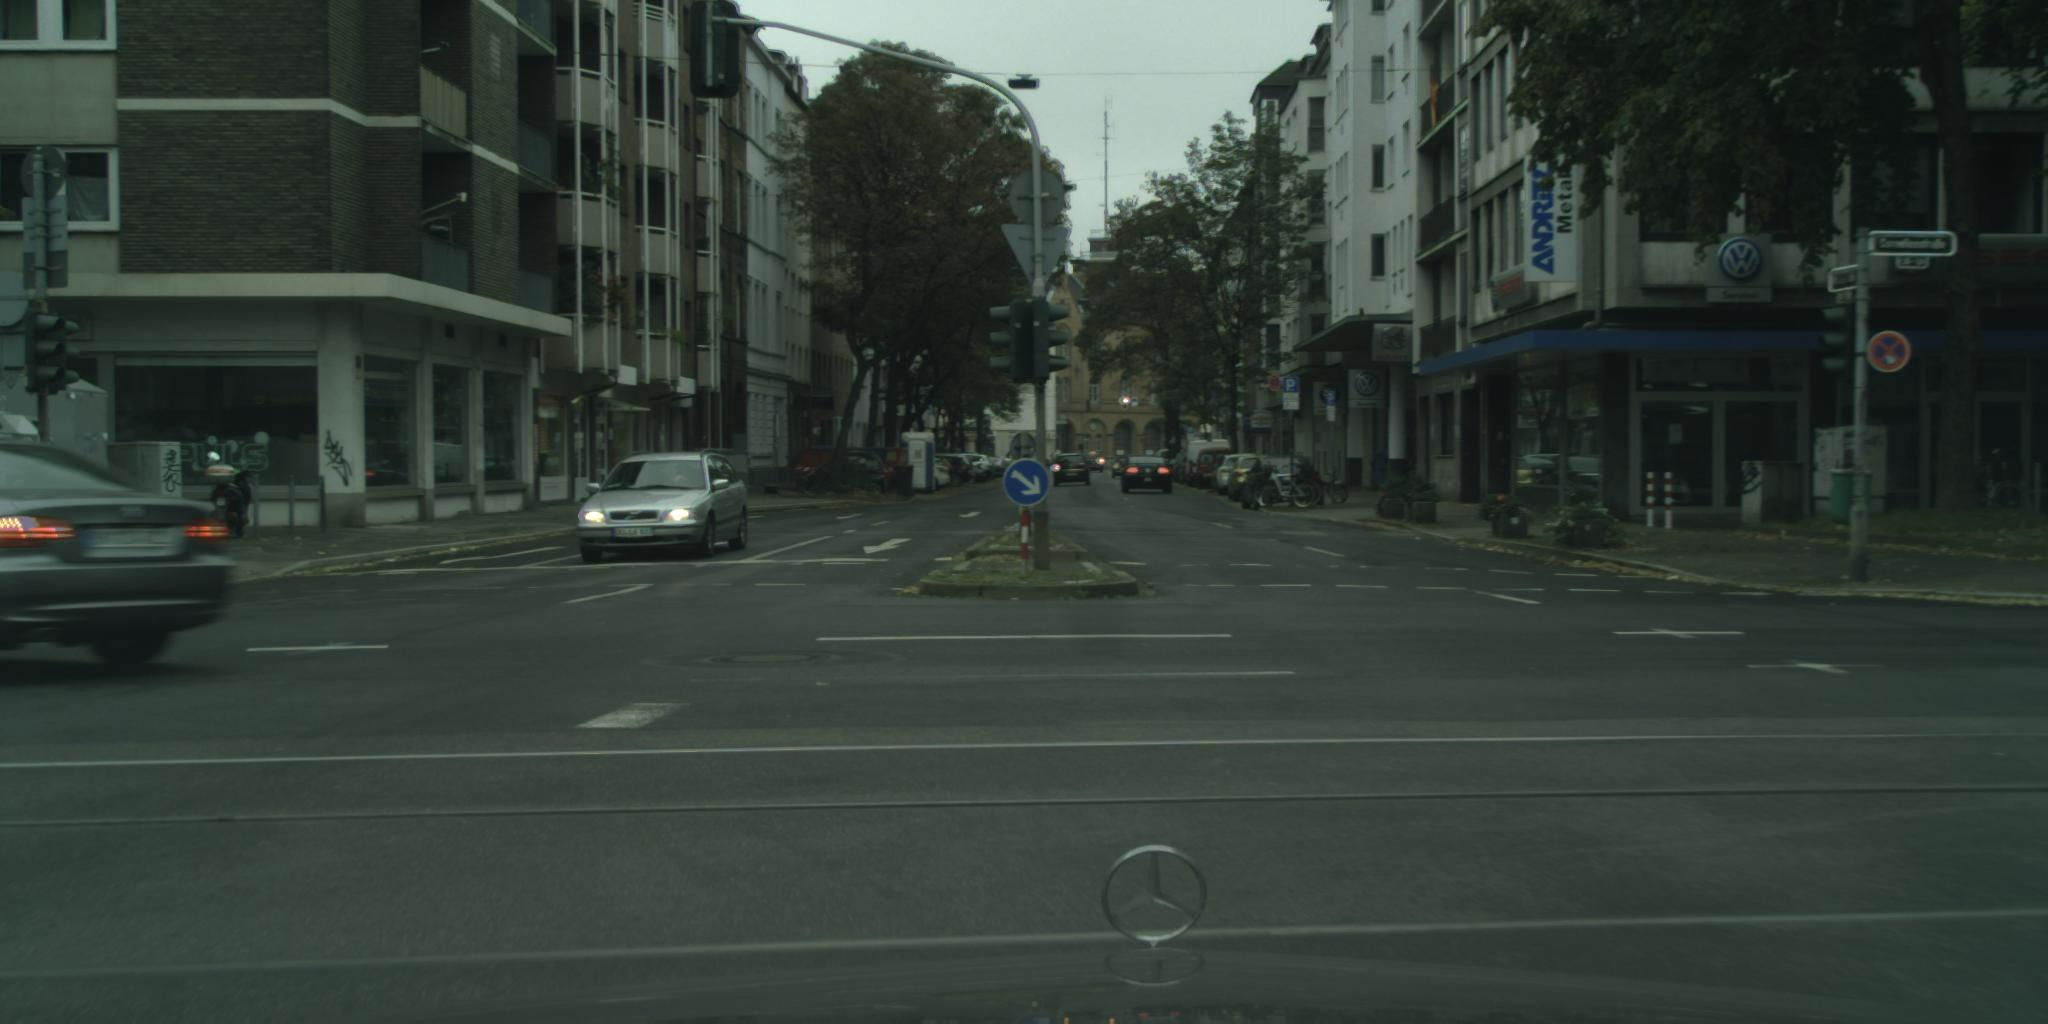bicycle: (1981, 445, 2034, 522), (1253, 465, 1323, 511), (1317, 473, 1351, 505)
car: (1, 438, 232, 674), (579, 451, 751, 564), (1241, 458, 1323, 509), (806, 452, 886, 498), (1226, 455, 1272, 505), (1121, 458, 1173, 496), (1215, 455, 1258, 498), (1196, 451, 1233, 491), (1054, 455, 1091, 488), (1078, 451, 1105, 474), (1112, 458, 1140, 481)
motorcycle: (193, 452, 257, 537)
